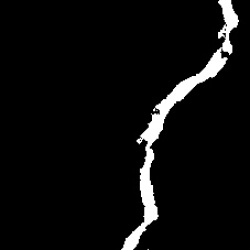crack: (121, 0, 239, 248)
